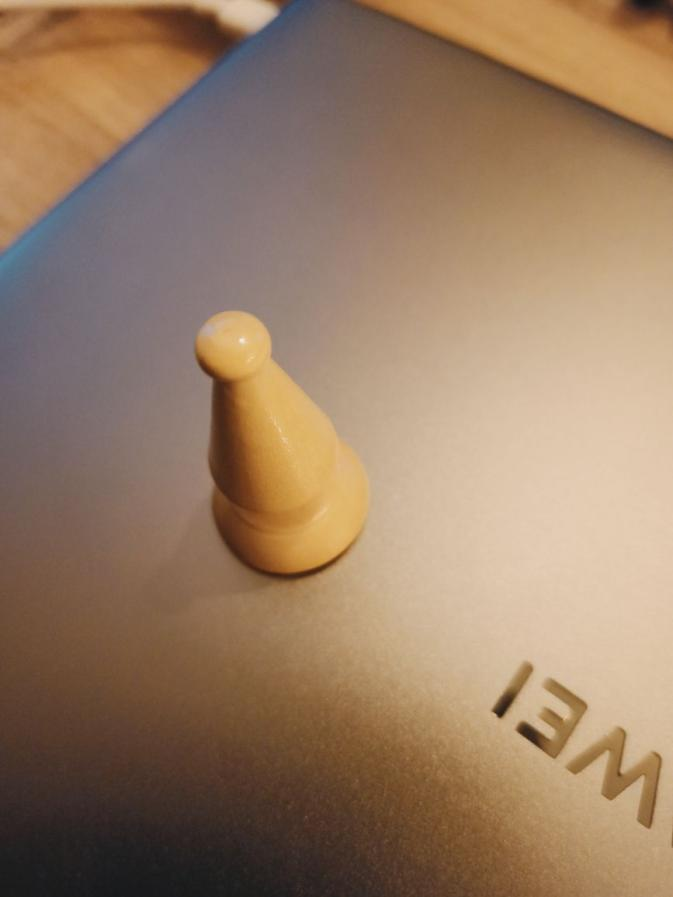wbishop: (192, 309, 380, 584)
